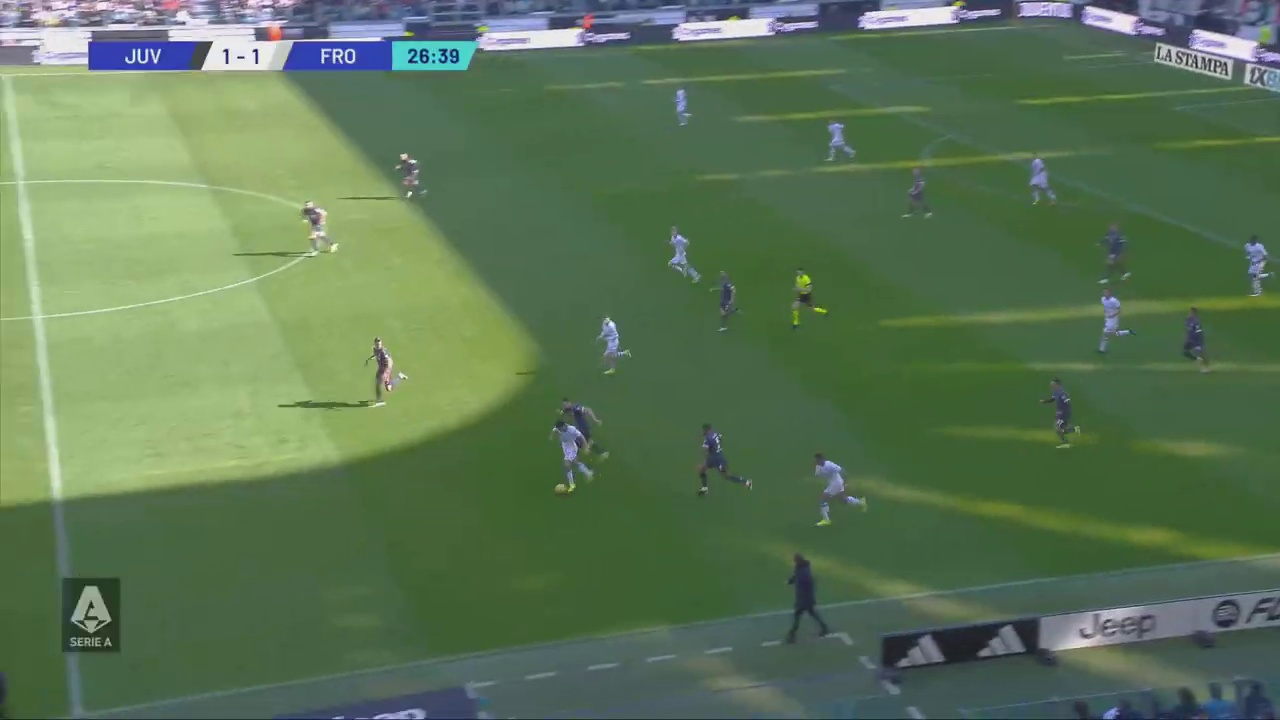ball: (495, 474, 516, 494)
